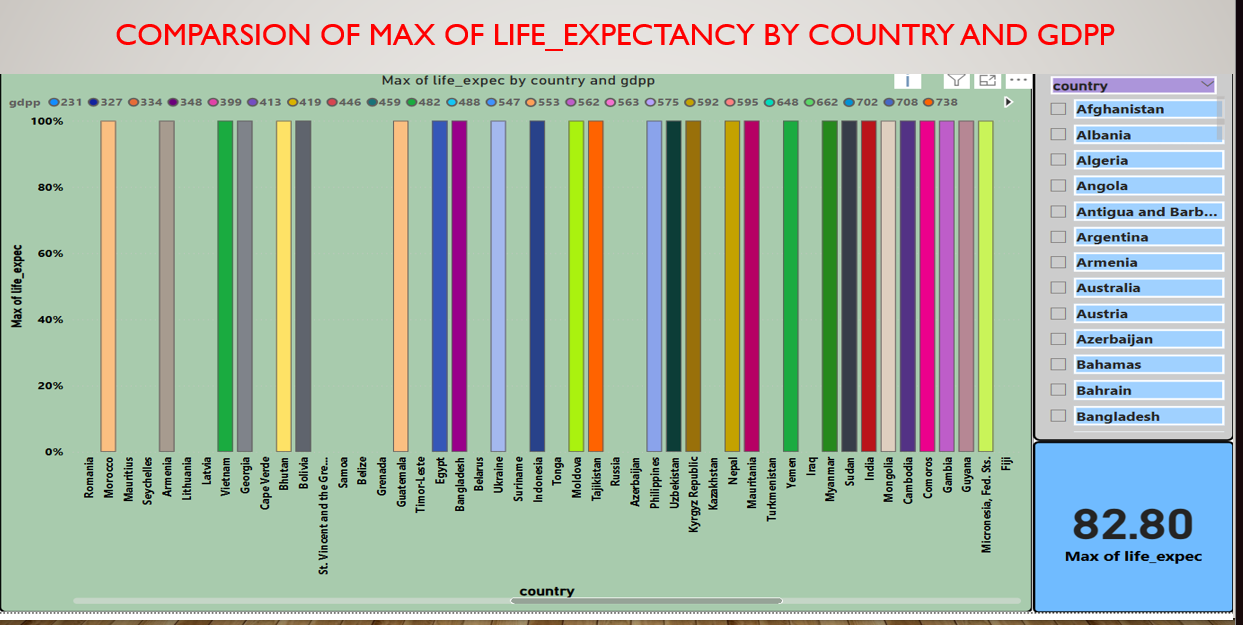

Layout of this report page (visuals, bound fields, positions):
{"tool":"powerbi","page":{"name":"Page 4","canvas":[1280,720],"ordinal":3},"visuals":[{"type":"hundredPercentStackedColumnChart","fields":{"Category":["Country-data.country"],"Series":["Country-data.gdpp"],"Y":["Max(Country-data.life_expec)"]},"box":[0,0,1071.2,720],"z":0},{"type":"slicer","fields":{"Values":["Country-data.country"]},"box":[1071.2,0,208.8,492.5],"z":1000},{"type":"card","fields":{"Values":["Max(Country-data.life_expec)"]},"box":[1071.2,492.5,208.8,227.5],"z":2000}]}

Visuals, with their boxes on the page's 1280x720 design canvas (x1, y1, x2, y2). These are canvas units, not pixel positions in the 1243x625 screenshot, which may show the page scaled, cropped or inside an application window:
hundredPercentStackedColumnChart - Country-data.country x Country-data.gdpp: rect(0, 0, 1071, 720)
slicer - Country-data.country: rect(1071, 0, 1280, 492)
card - Max(Country-data.life_expec): rect(1071, 492, 1280, 720)
